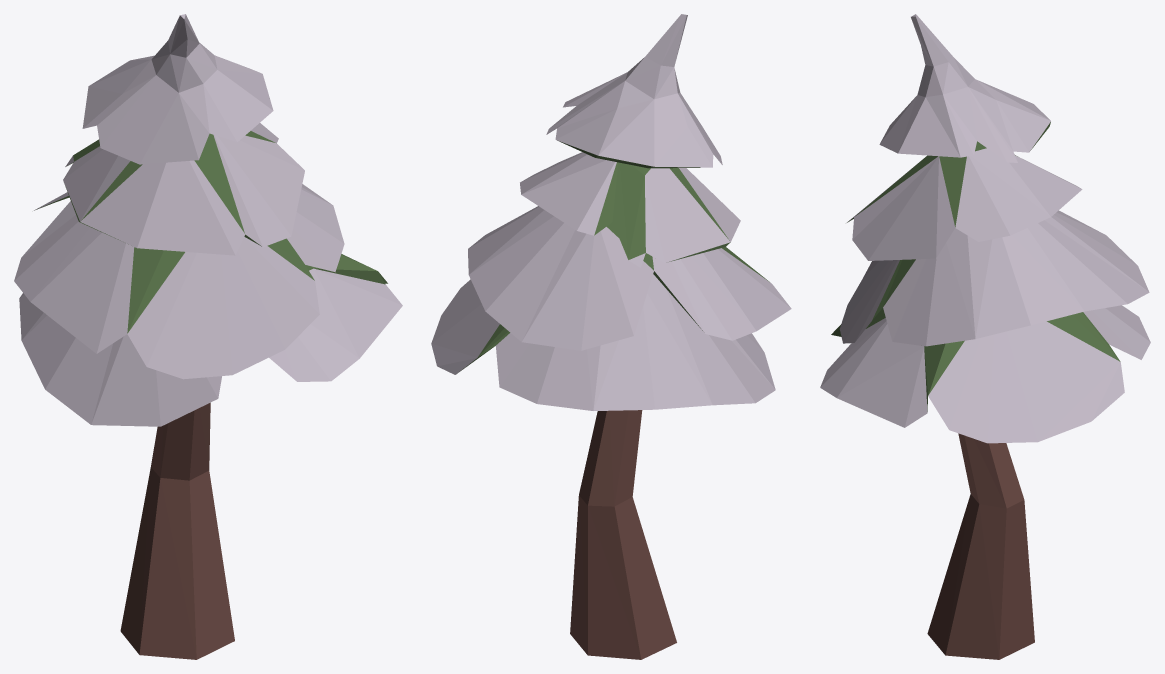
The model's file is PineTree_Snow_5.lod2.glb.
The picture shows the model from 3 angles, left to right: view 1: azimuth 30°, elevation 25°; view 2: azimuth 150°, elevation 25°; view 3: azimuth 270°, elevation 25°; orthographic projection. The views are drawn at different scales.
Parts seen in each view (by area): view 1: PineTree_Snow_5; view 2: PineTree_Snow_5; view 3: PineTree_Snow_5.
Boxes of the visible parts, box(x1,y1,x2,y2) form: PineTree_Snow_5: box(14, 14, 402, 659); PineTree_Snow_5: box(431, 14, 791, 659); PineTree_Snow_5: box(820, 14, 1150, 659).
Size of the model in its own units: 1.46 by 2.7 by 1.33.
